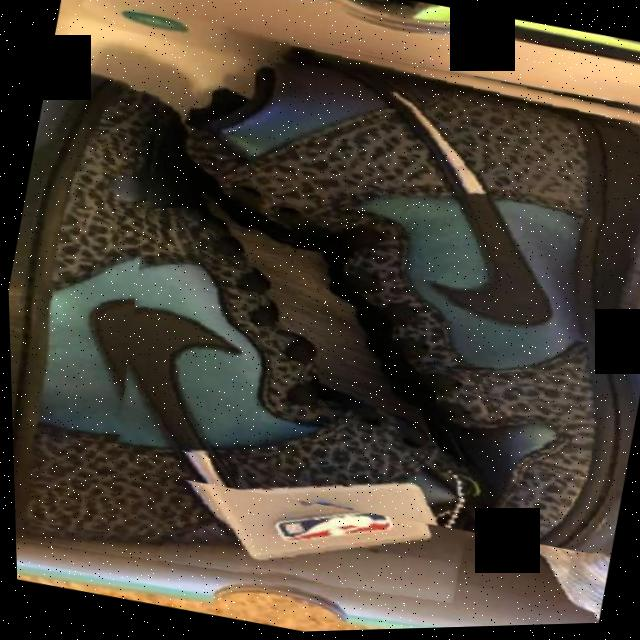shoe: (73, 0, 640, 572), (1, 50, 552, 635)
